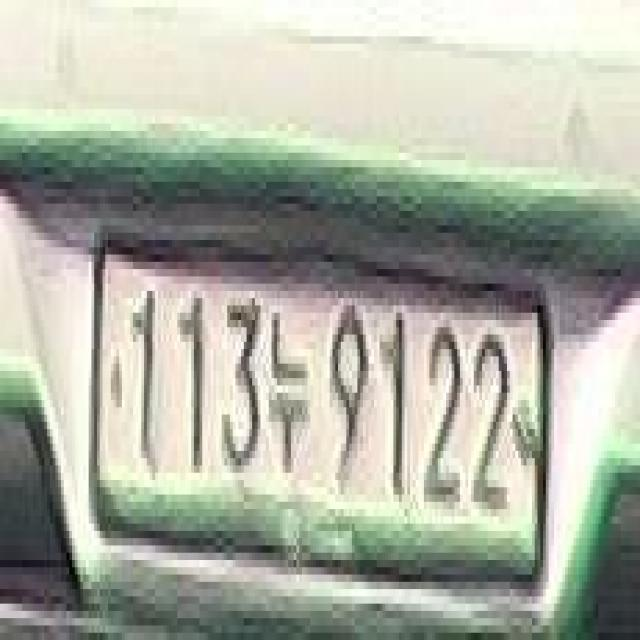illegal_plate: (86, 233, 555, 620)
